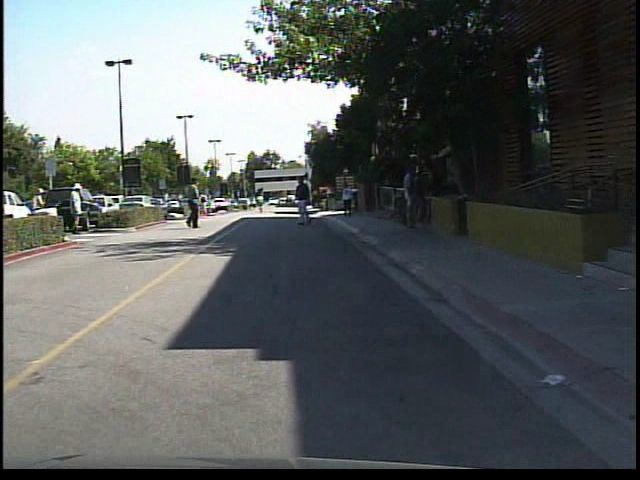person: (398, 154, 427, 235), (293, 170, 321, 228), (181, 172, 208, 232), (417, 165, 439, 229), (69, 177, 92, 236), (30, 182, 53, 238), (339, 176, 357, 221), (199, 188, 212, 218), (254, 190, 270, 213)
